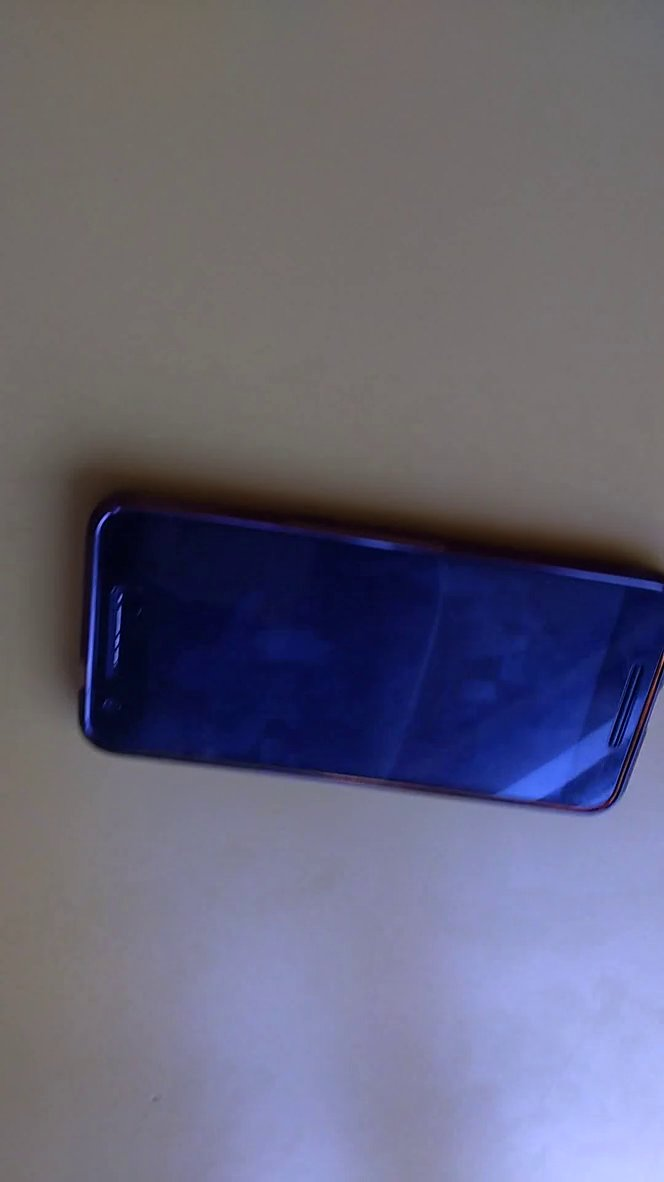phone: (65, 451, 664, 832)
